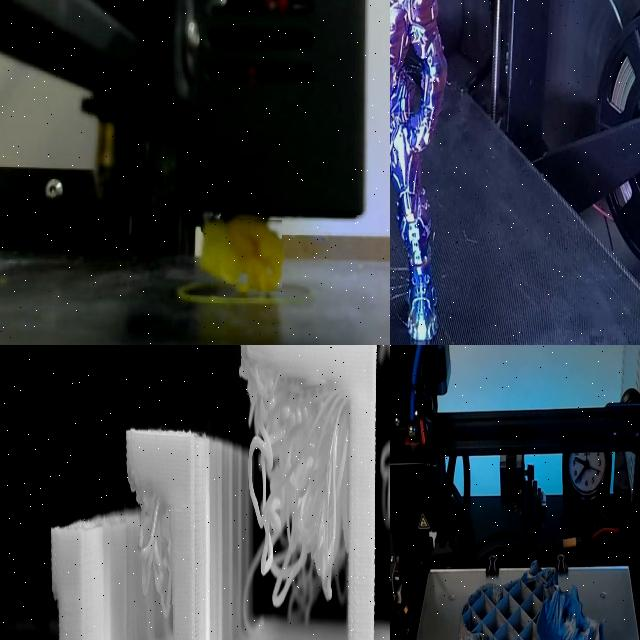spaghetti: (234, 365, 352, 640), (129, 484, 175, 640), (203, 219, 282, 292)
